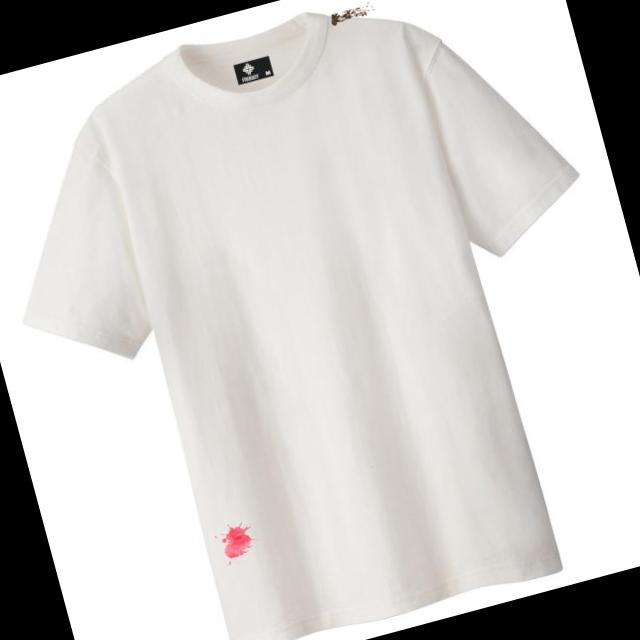stain: (210, 520, 258, 566), (322, 0, 375, 39)
